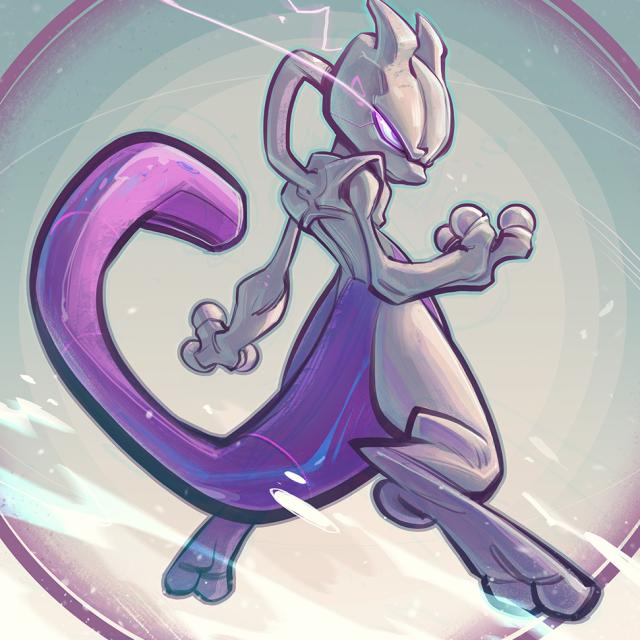Mewtwo: (177, 9, 532, 554)
